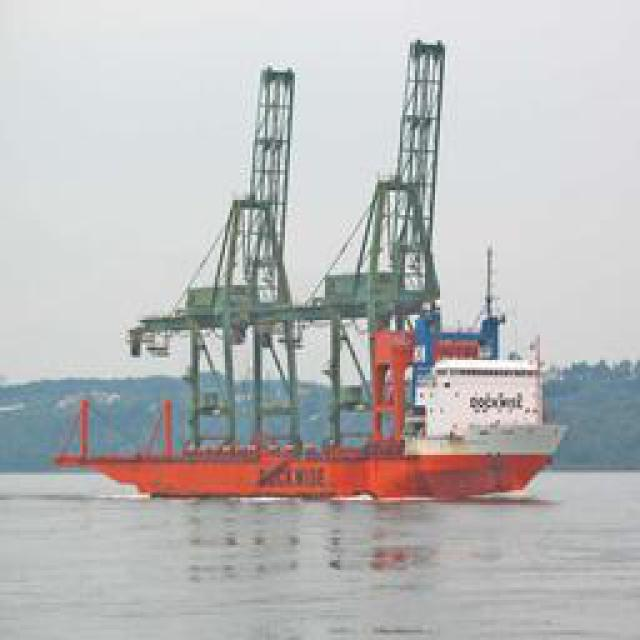Ship: (47, 59, 570, 502)
